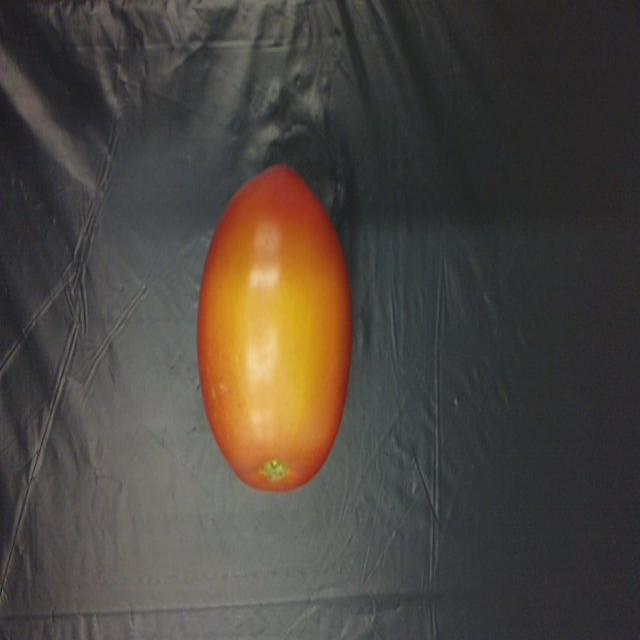sari: (186, 172, 364, 497)
